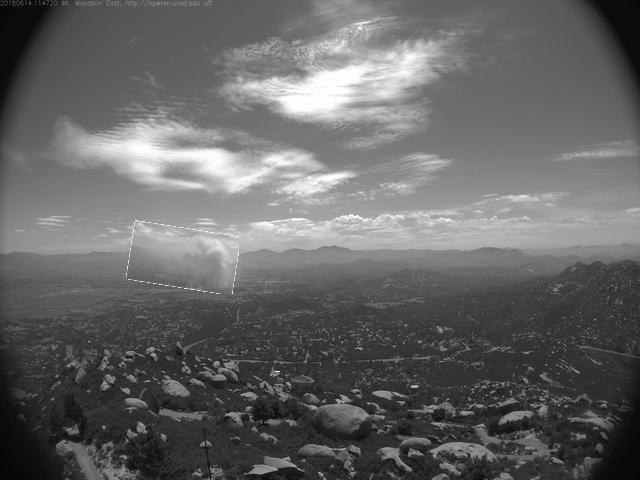smoke: (129, 225, 240, 292)
